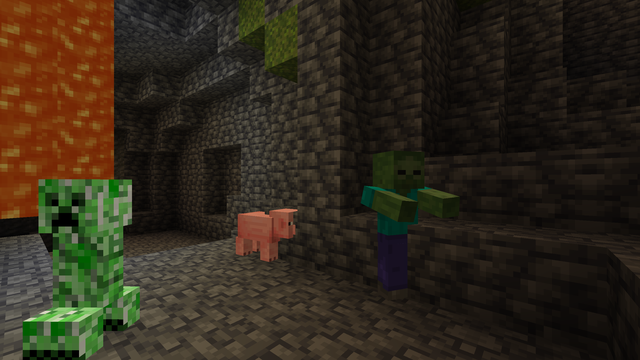cochons: (234, 210, 278, 263)
creepers: (44, 170, 133, 358)
zombies: (368, 153, 426, 308)
